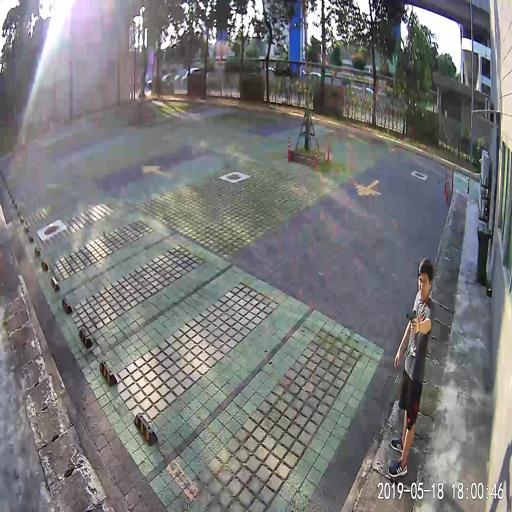Handgun: (404, 307, 416, 331)
